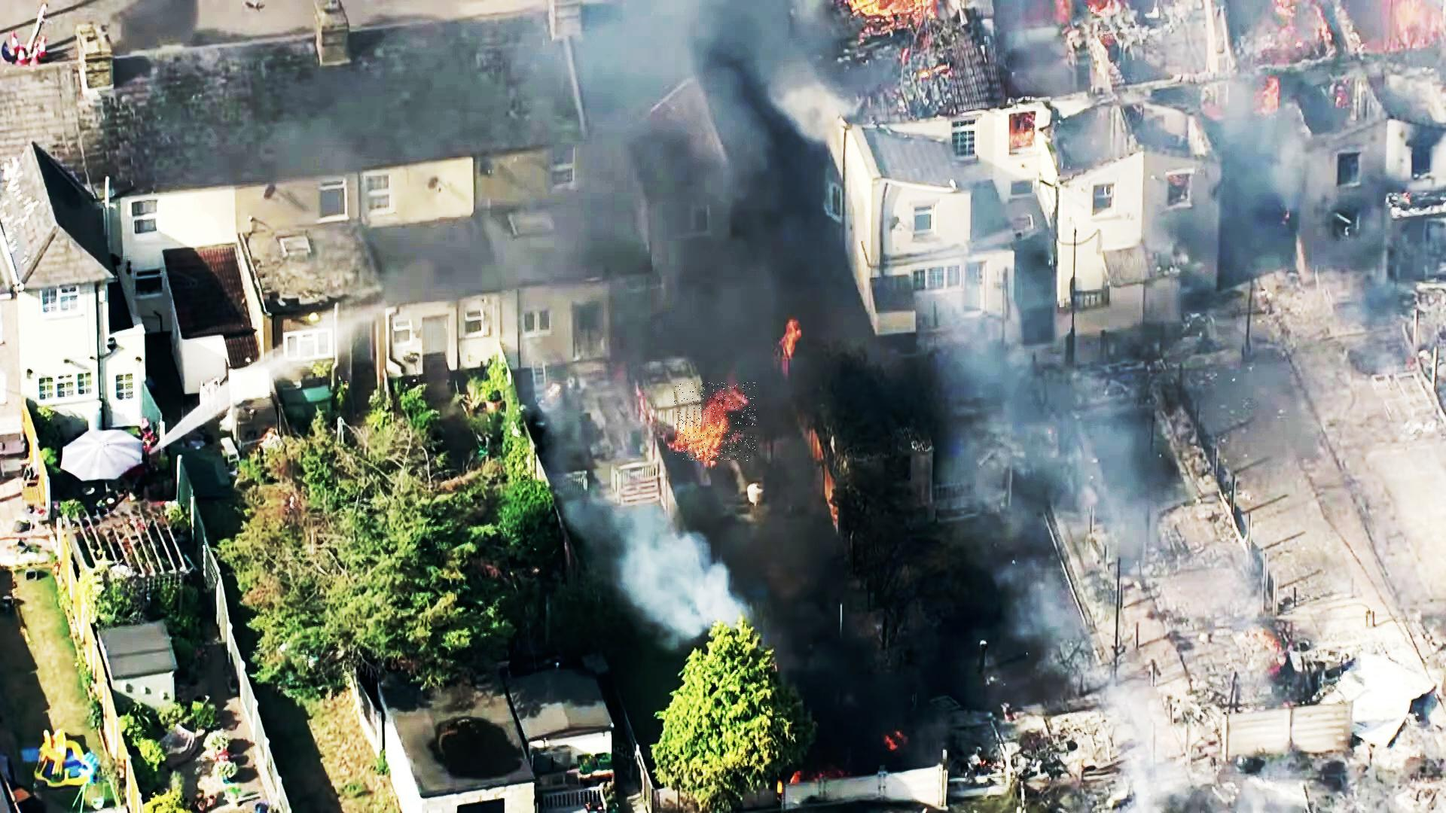fire: (674, 383, 755, 461)
